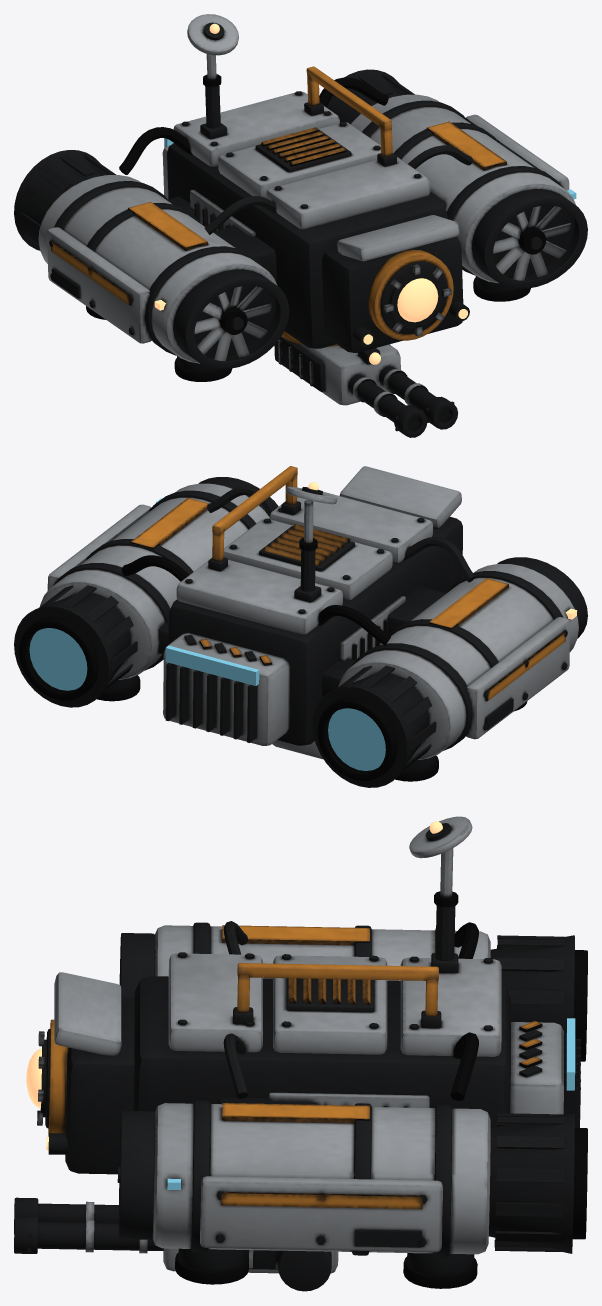
Rendered from Drone_.fbx.
3 renders of one model, top to bottom at view 1: azimuth 30°, elevation 25°; view 2: azimuth 150°, elevation 25°; view 3: azimuth 270°, elevation 25°, orthographic. The views are drawn at different scales.
Parts seen in each view (by area): view 1: Drone_Body, Drone_Turret, Drone_FanL, Drone_FanR; view 2: Drone_Body, Drone_Turret; view 3: Drone_Body, Drone_Turret.
Part boxes in pixels (x1,y1,x2,y2): Drone_Body: (14,14,587,381); Drone_Turret: (274,331,457,437); Drone_FanL: (194,286,272,360); Drone_FanR: (493,206,571,280); Drone_Body: (14,466,587,787); Drone_Turret: (272,740,323,759); Drone_Body: (26,816,587,1288); Drone_Turret: (14,1197,338,1291).
Size of the model in its own units: 96.59 by 66.56 by 85.42.
Materials: 3 (1 with a texture image).
